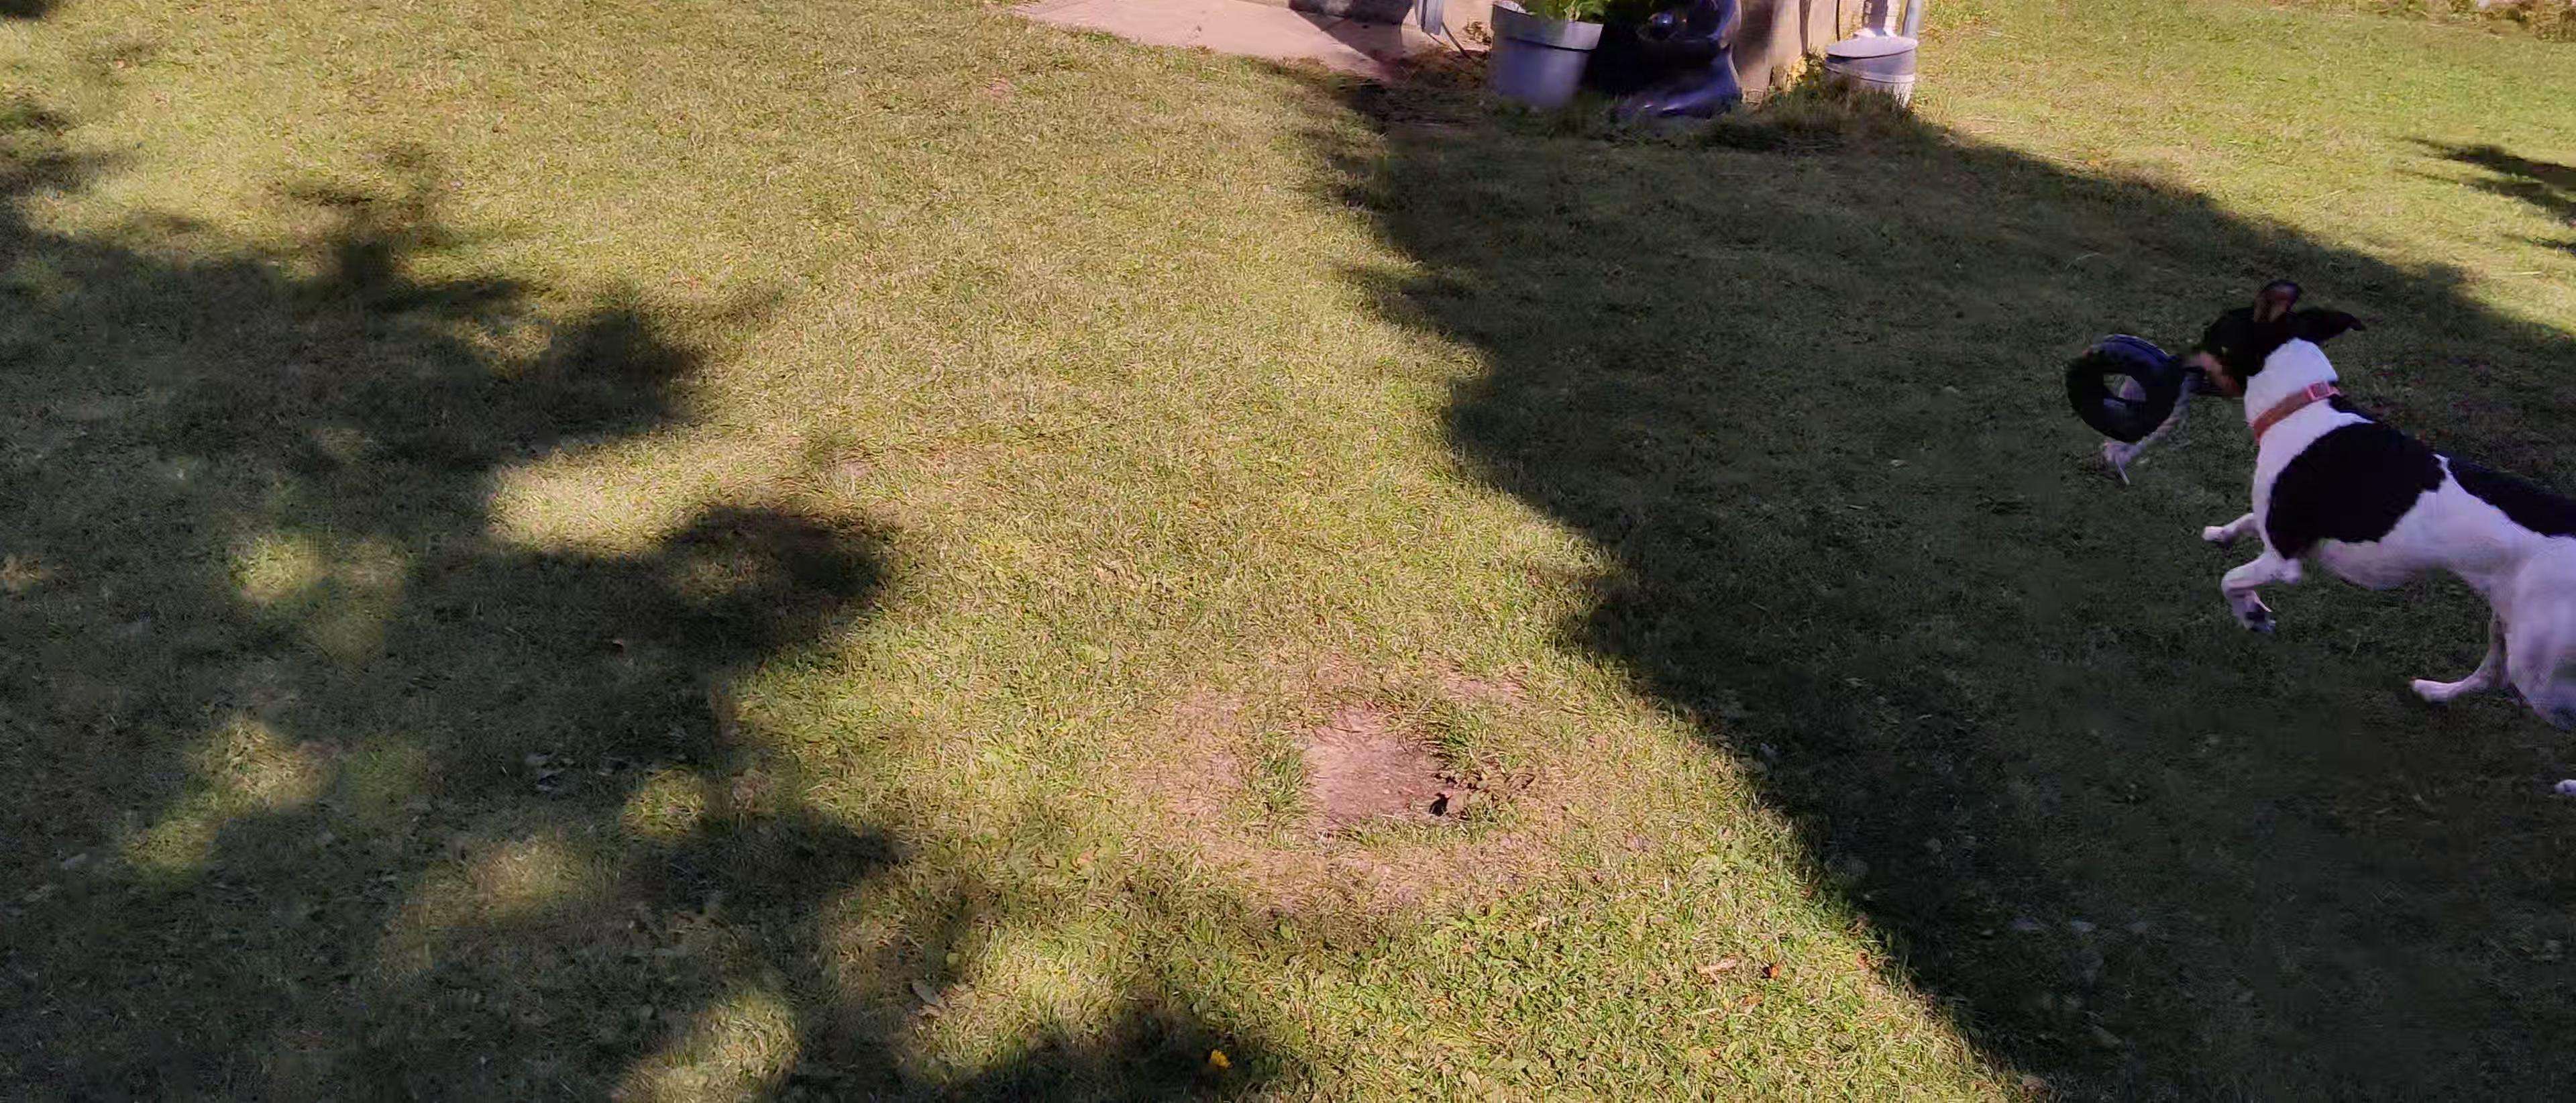Dog: (2154, 256, 2576, 768)
